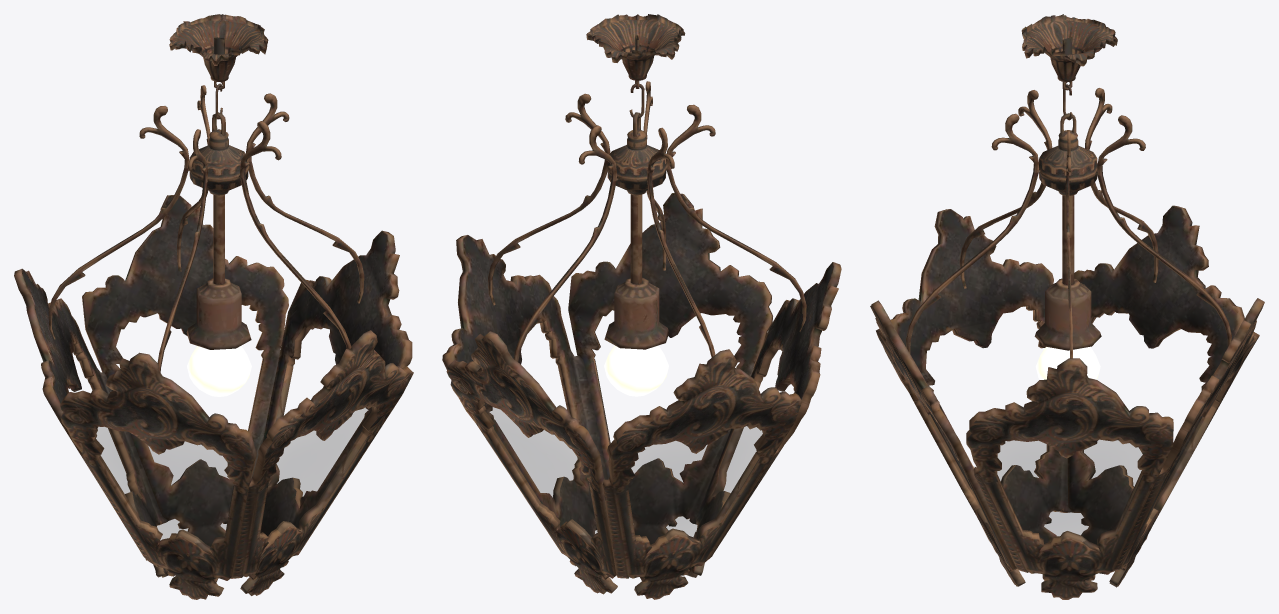
The model's file is lantern_chandelier_01.glb.
3 renders of one model, left to right at view 1: azimuth 30°, elevation 25°; view 2: azimuth 150°, elevation 25°; view 3: azimuth 270°, elevation 25°, orthographic.
Visible parts, largest first — view 1: lantern_chandelier_01; view 2: lantern_chandelier_01; view 3: lantern_chandelier_01.
Part boxes in pixels (left/top/right/bottom): lantern_chandelier_01: left=14, top=14, right=413, bottom=599; lantern_chandelier_01: left=442, top=14, right=841, bottom=599; lantern_chandelier_01: left=870, top=14, right=1264, bottom=599.
Size of the model in its own units: 0.5792 by 0.8776 by 0.5746.
3 materials, 2 textured.
